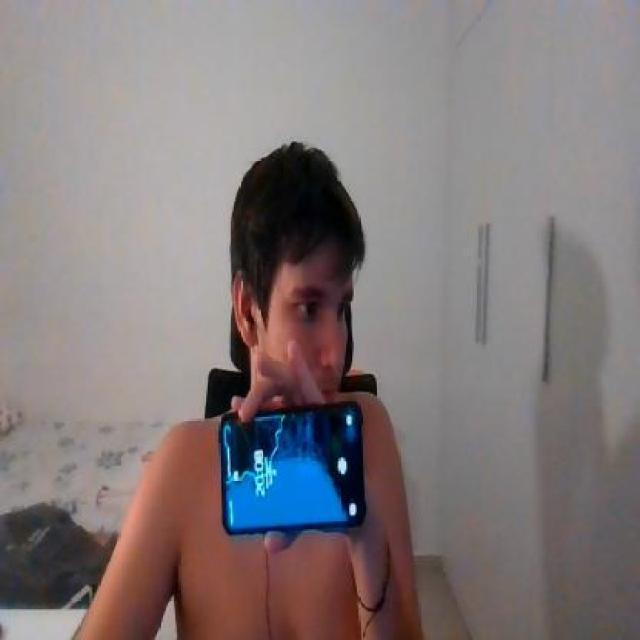phone: (218, 404, 368, 538)
